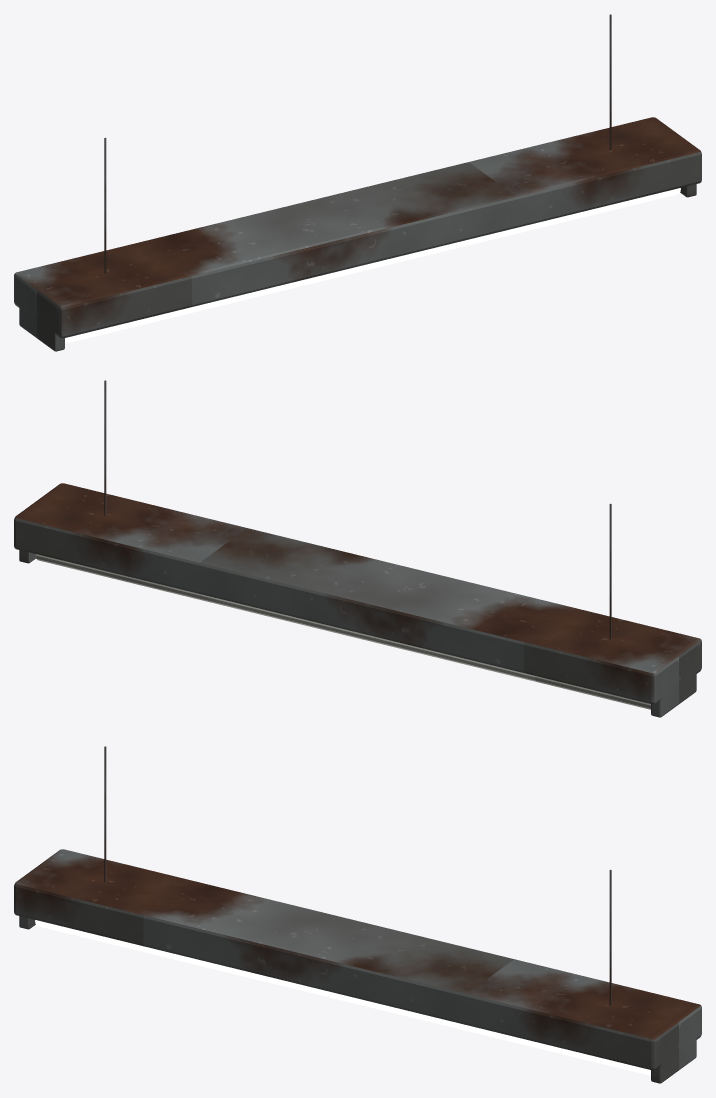
Rendered from F22_fluorescent_light.glb.
3 views of the same model, one above another, from view 1: azimuth 30°, elevation 25°; view 2: azimuth 150°, elevation 25°; view 3: azimuth 330°, elevation 25° (orthographic).
Visible parts, largest first — view 1: F22_fluorescent_light; view 2: F22_fluorescent_light; view 3: F22_fluorescent_light.
Part boxes in pixels (x1,y1,x2,y2): F22_fluorescent_light: (14, 14, 701, 351); F22_fluorescent_light: (14, 380, 701, 717); F22_fluorescent_light: (14, 746, 701, 1083).
Bounding box in the file's own units: 1.2 × 0.3325 × 0.1574.
5 materials, 5 textured.
